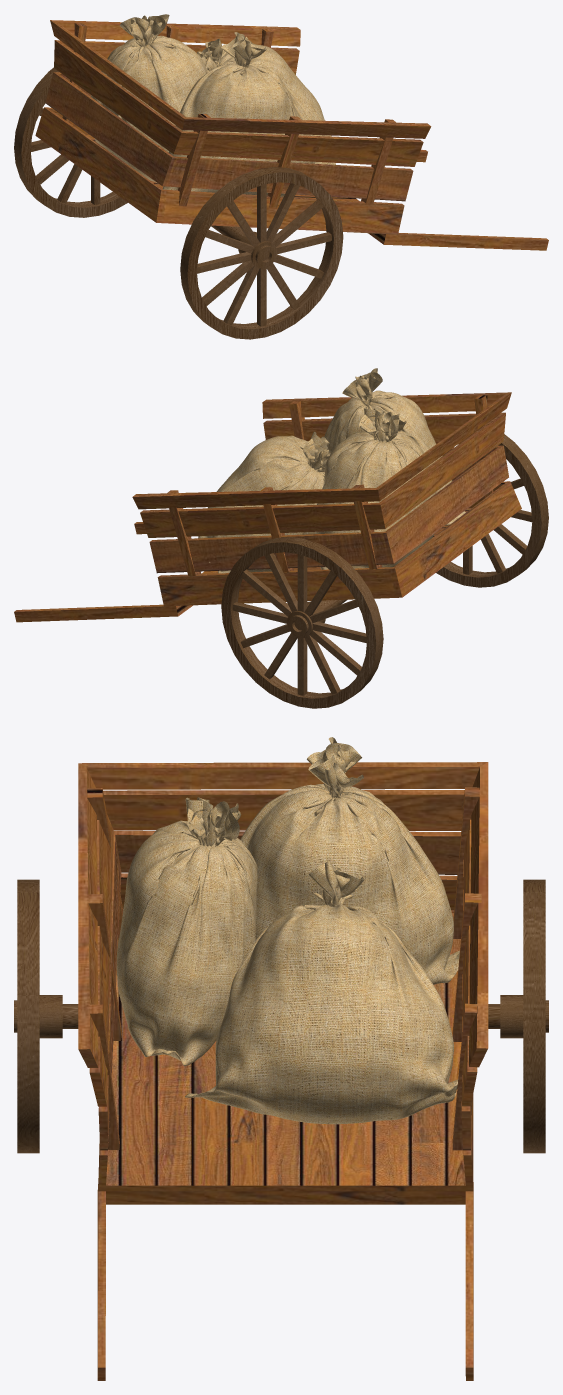
The model's file is Carroça.fbx.
3 views of the same model, one above another, from view 1: azimuth 30°, elevation 25°; view 2: azimuth 150°, elevation 25°; view 3: azimuth 270°, elevation 25° (orthographic). The views are drawn at different scales.
Parts seen in each view (by area): view 1: Box001.001, Cylinder.002, Bag 3, Bag 1, Bag 2; view 2: Box001.001, Cylinder.002, Bag 1, Bag 2, Bag 3; view 3: Box001.001, Bag 2, Bag 3, Bag 1, Cylinder.002.
Part boxes in pixels (x1,y1,x2,y2): Box001.001: [35, 20, 548, 250]; Cylinder.002: [14, 67, 343, 339]; Bag 3: [163, 32, 315, 196]; Bag 1: [91, 14, 206, 182]; Bag 2: [197, 38, 335, 164]; Box001.001: [14, 392, 521, 622]; Cylinder.002: [221, 434, 548, 708]; Bag 1: [315, 407, 436, 570]; Bag 2: [198, 431, 332, 573]; Bag 3: [324, 368, 465, 526]; Box001.001: [78, 762, 488, 1380]; Bag 2: [185, 862, 458, 1124]; Bag 3: [116, 797, 257, 1066]; Bag 1: [240, 737, 459, 984]; Cylinder.002: [14, 879, 548, 1153].
Size of the model in its own units: 635 by 495 by 401.
